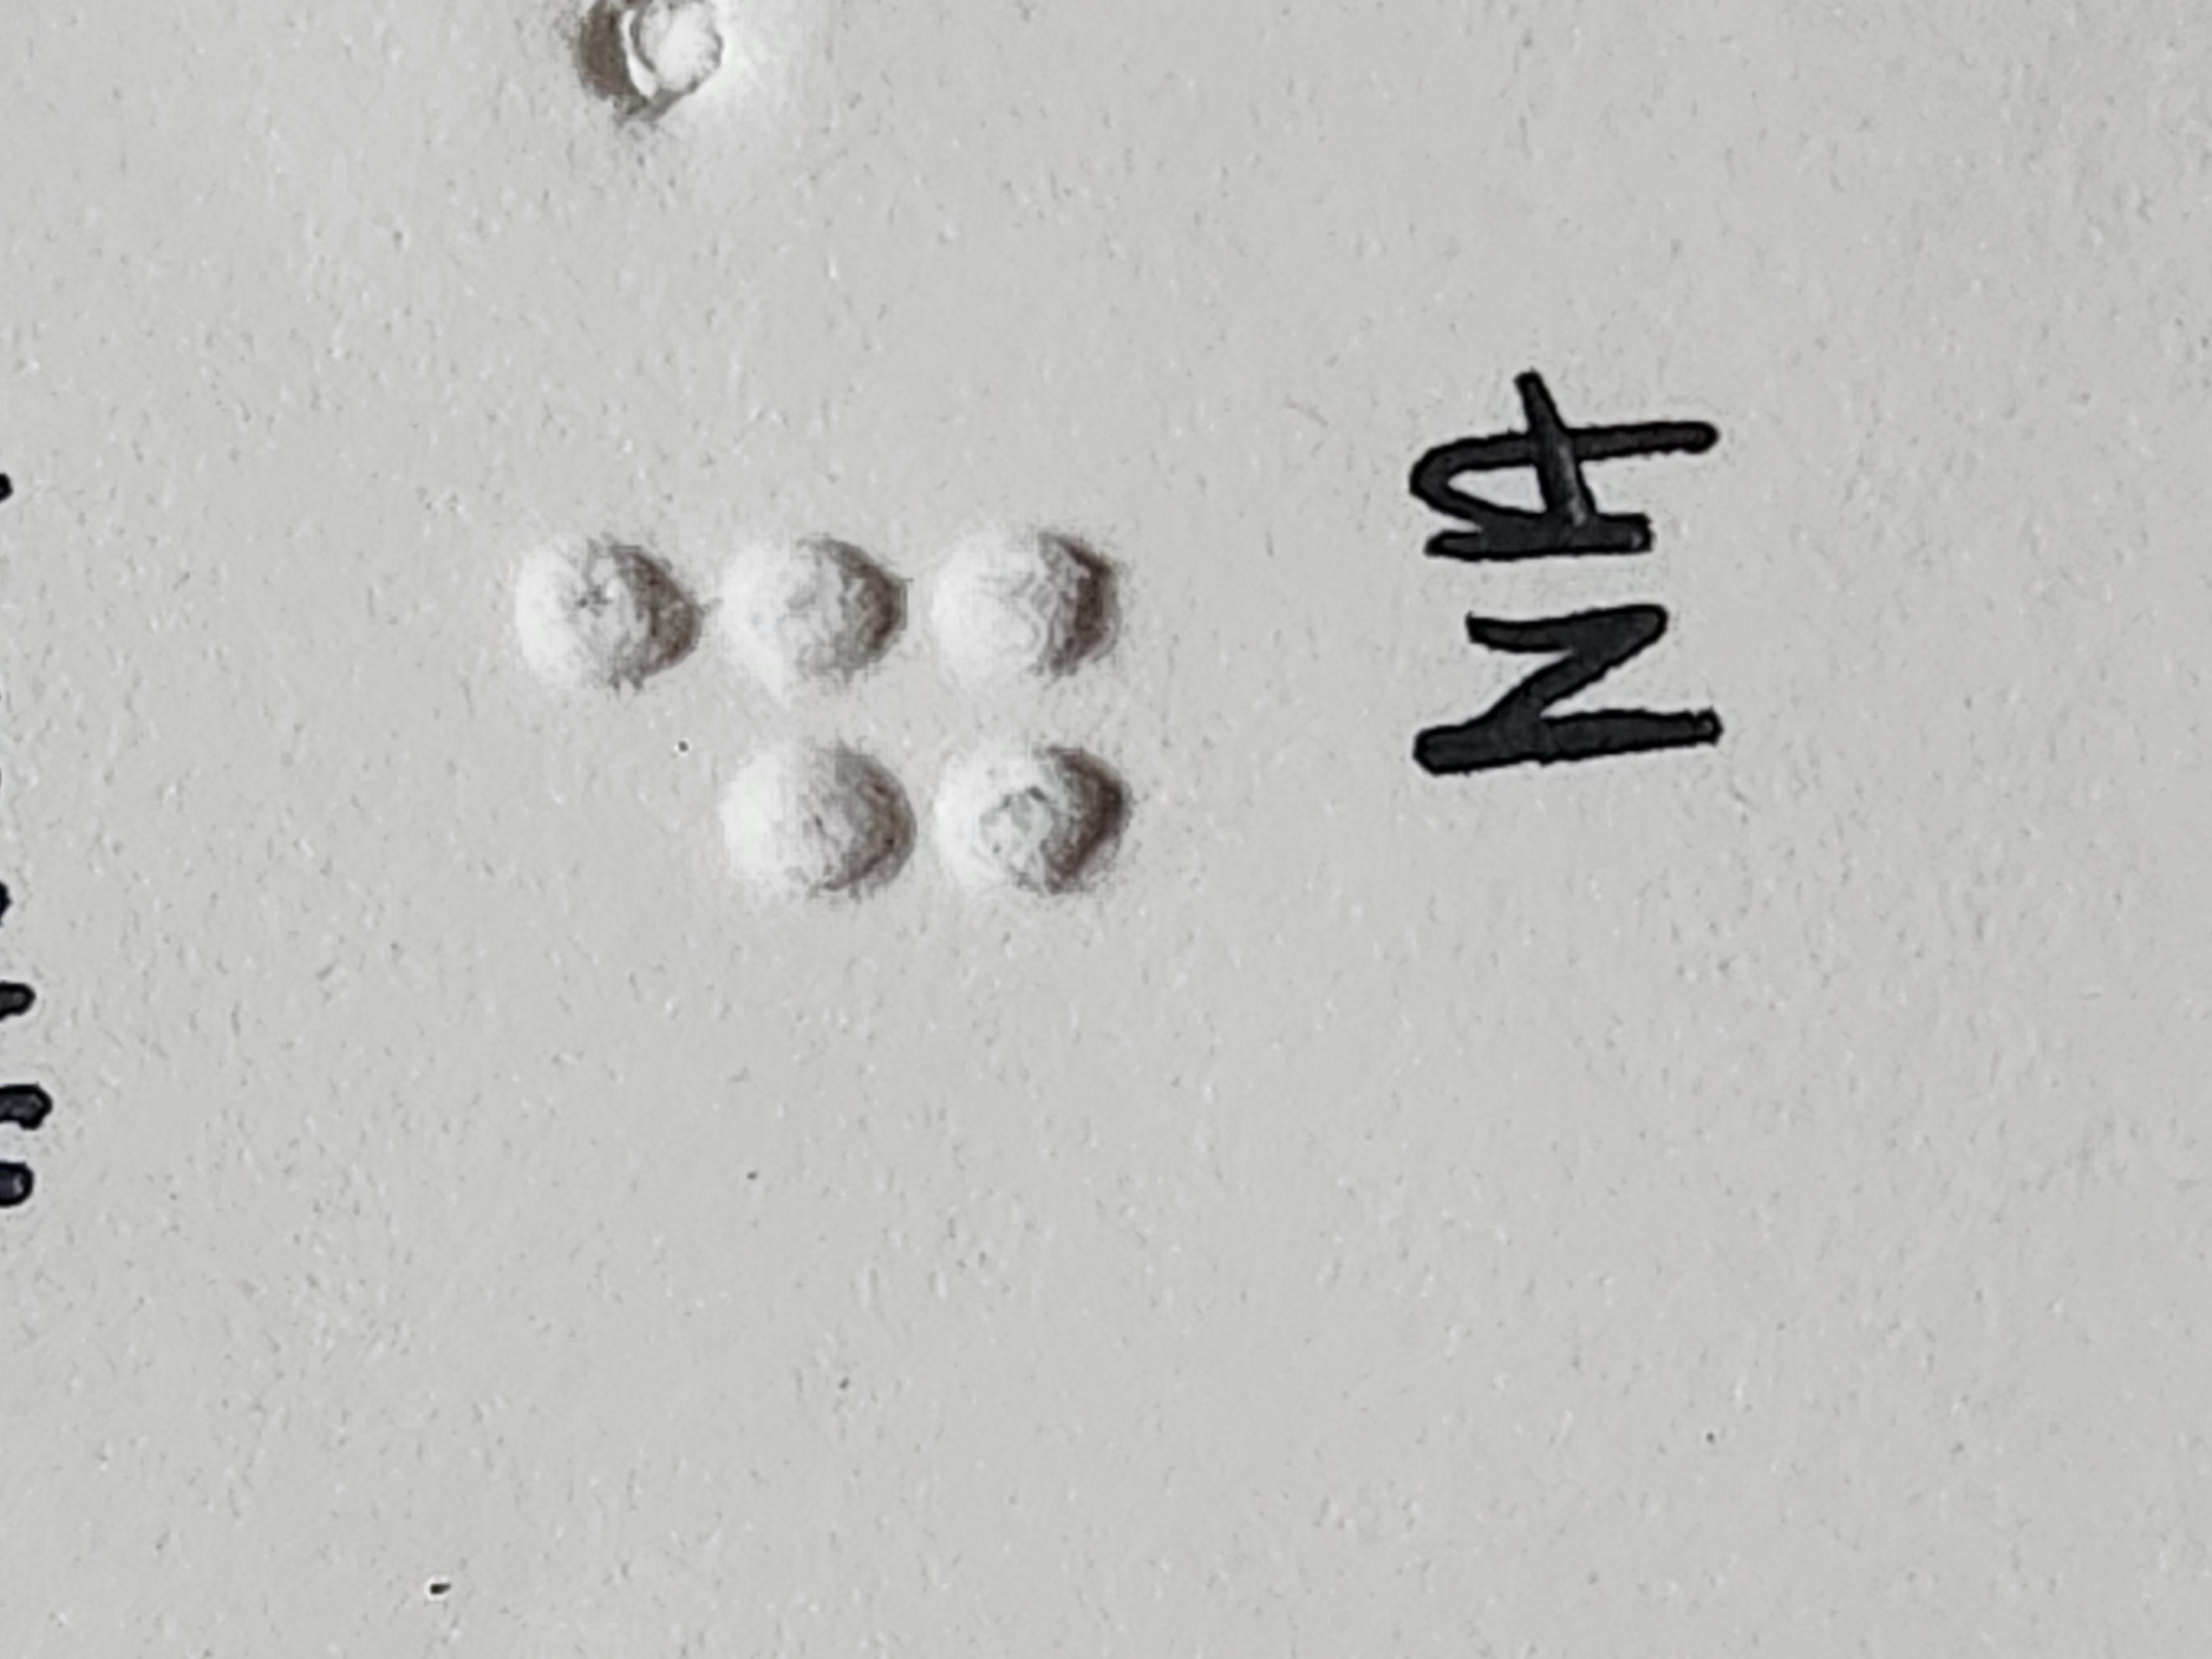one_cell_non_alphabet_na: (1019, 387, 1500, 842)
